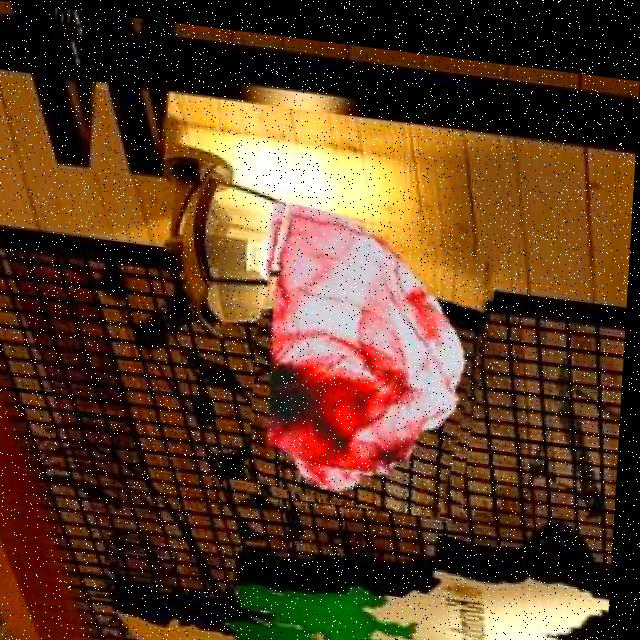litter: (253, 197, 497, 508)
